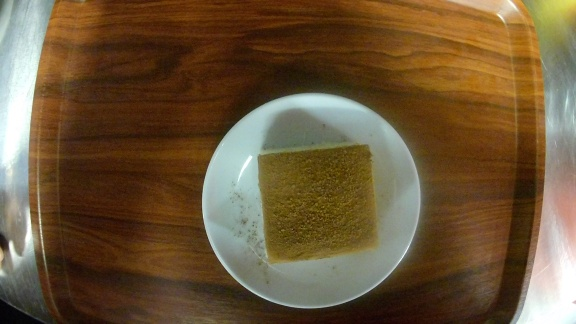tiramisu: (201, 91, 421, 308)
